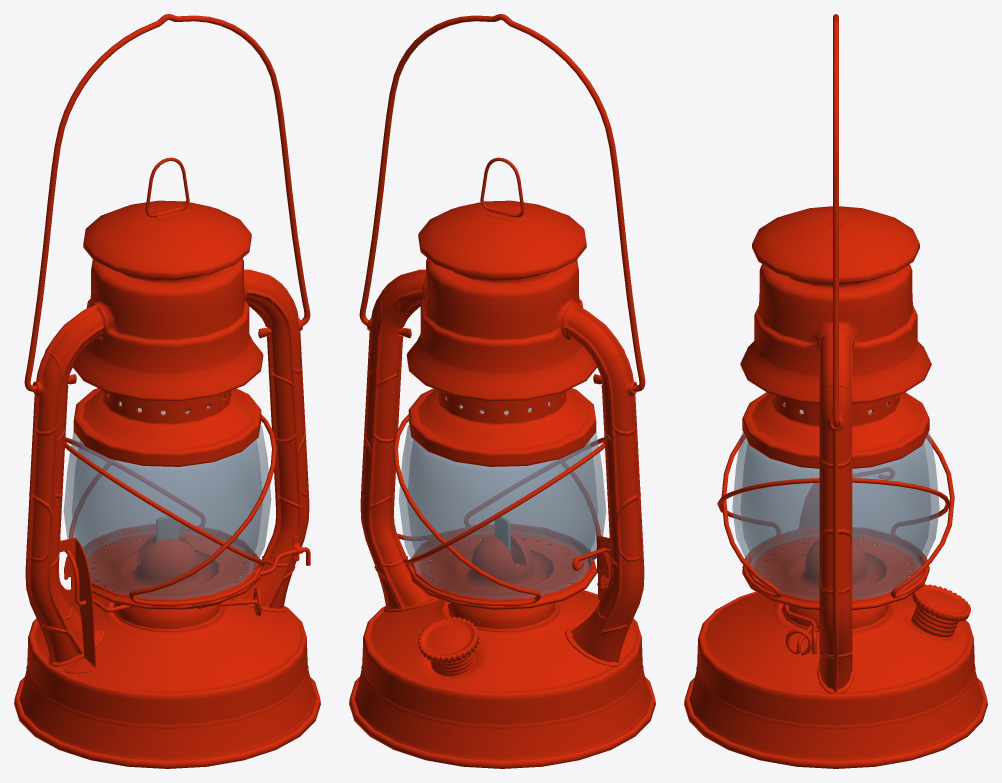
File: kerosene_lamp.FBX
3 views of the same model, side by side, from view 1: azimuth 30°, elevation 25°; view 2: azimuth 150°, elevation 25°; view 3: azimuth 270°, elevation 25° (orthographic).
Parts seen in each view (by area): view 1: body, GLASS; view 2: body, GLASS; view 3: body, GLASS.
Part boxes in pixels (<box>): body: <box>14,14,320,768</box>; GLASS: <box>63,397,271,598</box>; body: <box>349,14,655,768</box>; GLASS: <box>398,397,606,599</box>; body: <box>684,14,987,768</box>; GLASS: <box>732,402,939,599</box>.
Bounding box in the file's own units: 19 × 17.71 × 43.98.
